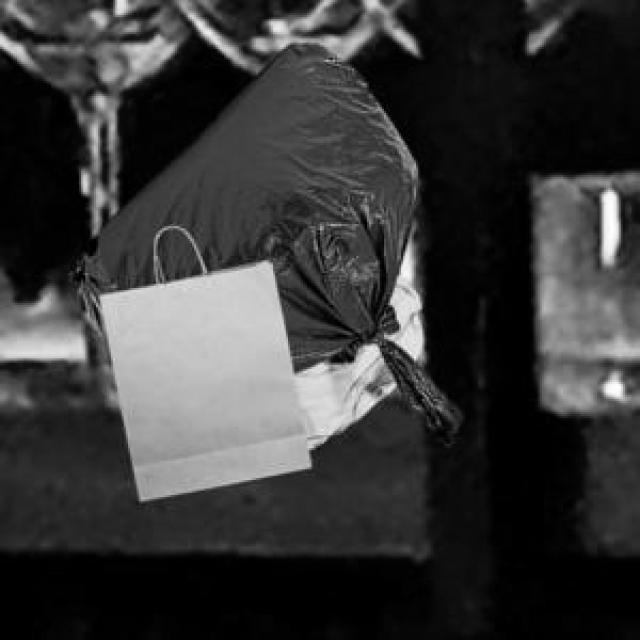miscellaneous trash: (66, 38, 459, 442)
paper: (96, 256, 307, 497)
